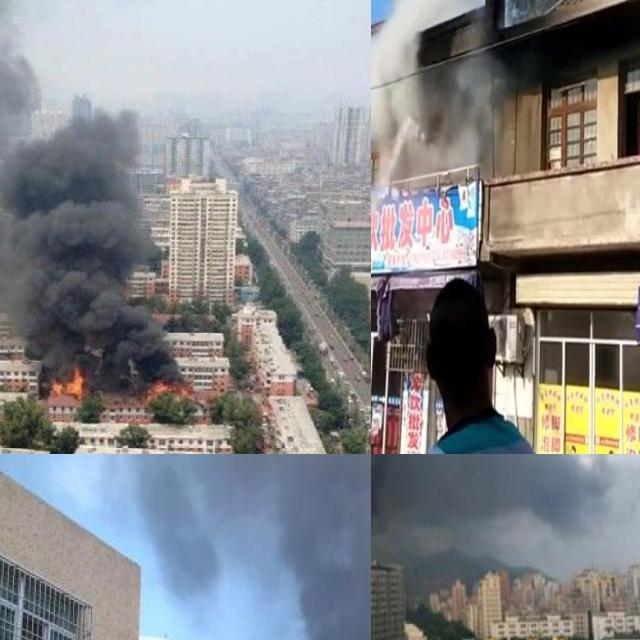fire: (48, 366, 84, 399), (141, 378, 185, 399)
smoke: (0, 0, 171, 385), (119, 454, 371, 640), (371, 454, 640, 572), (371, 0, 506, 185)
